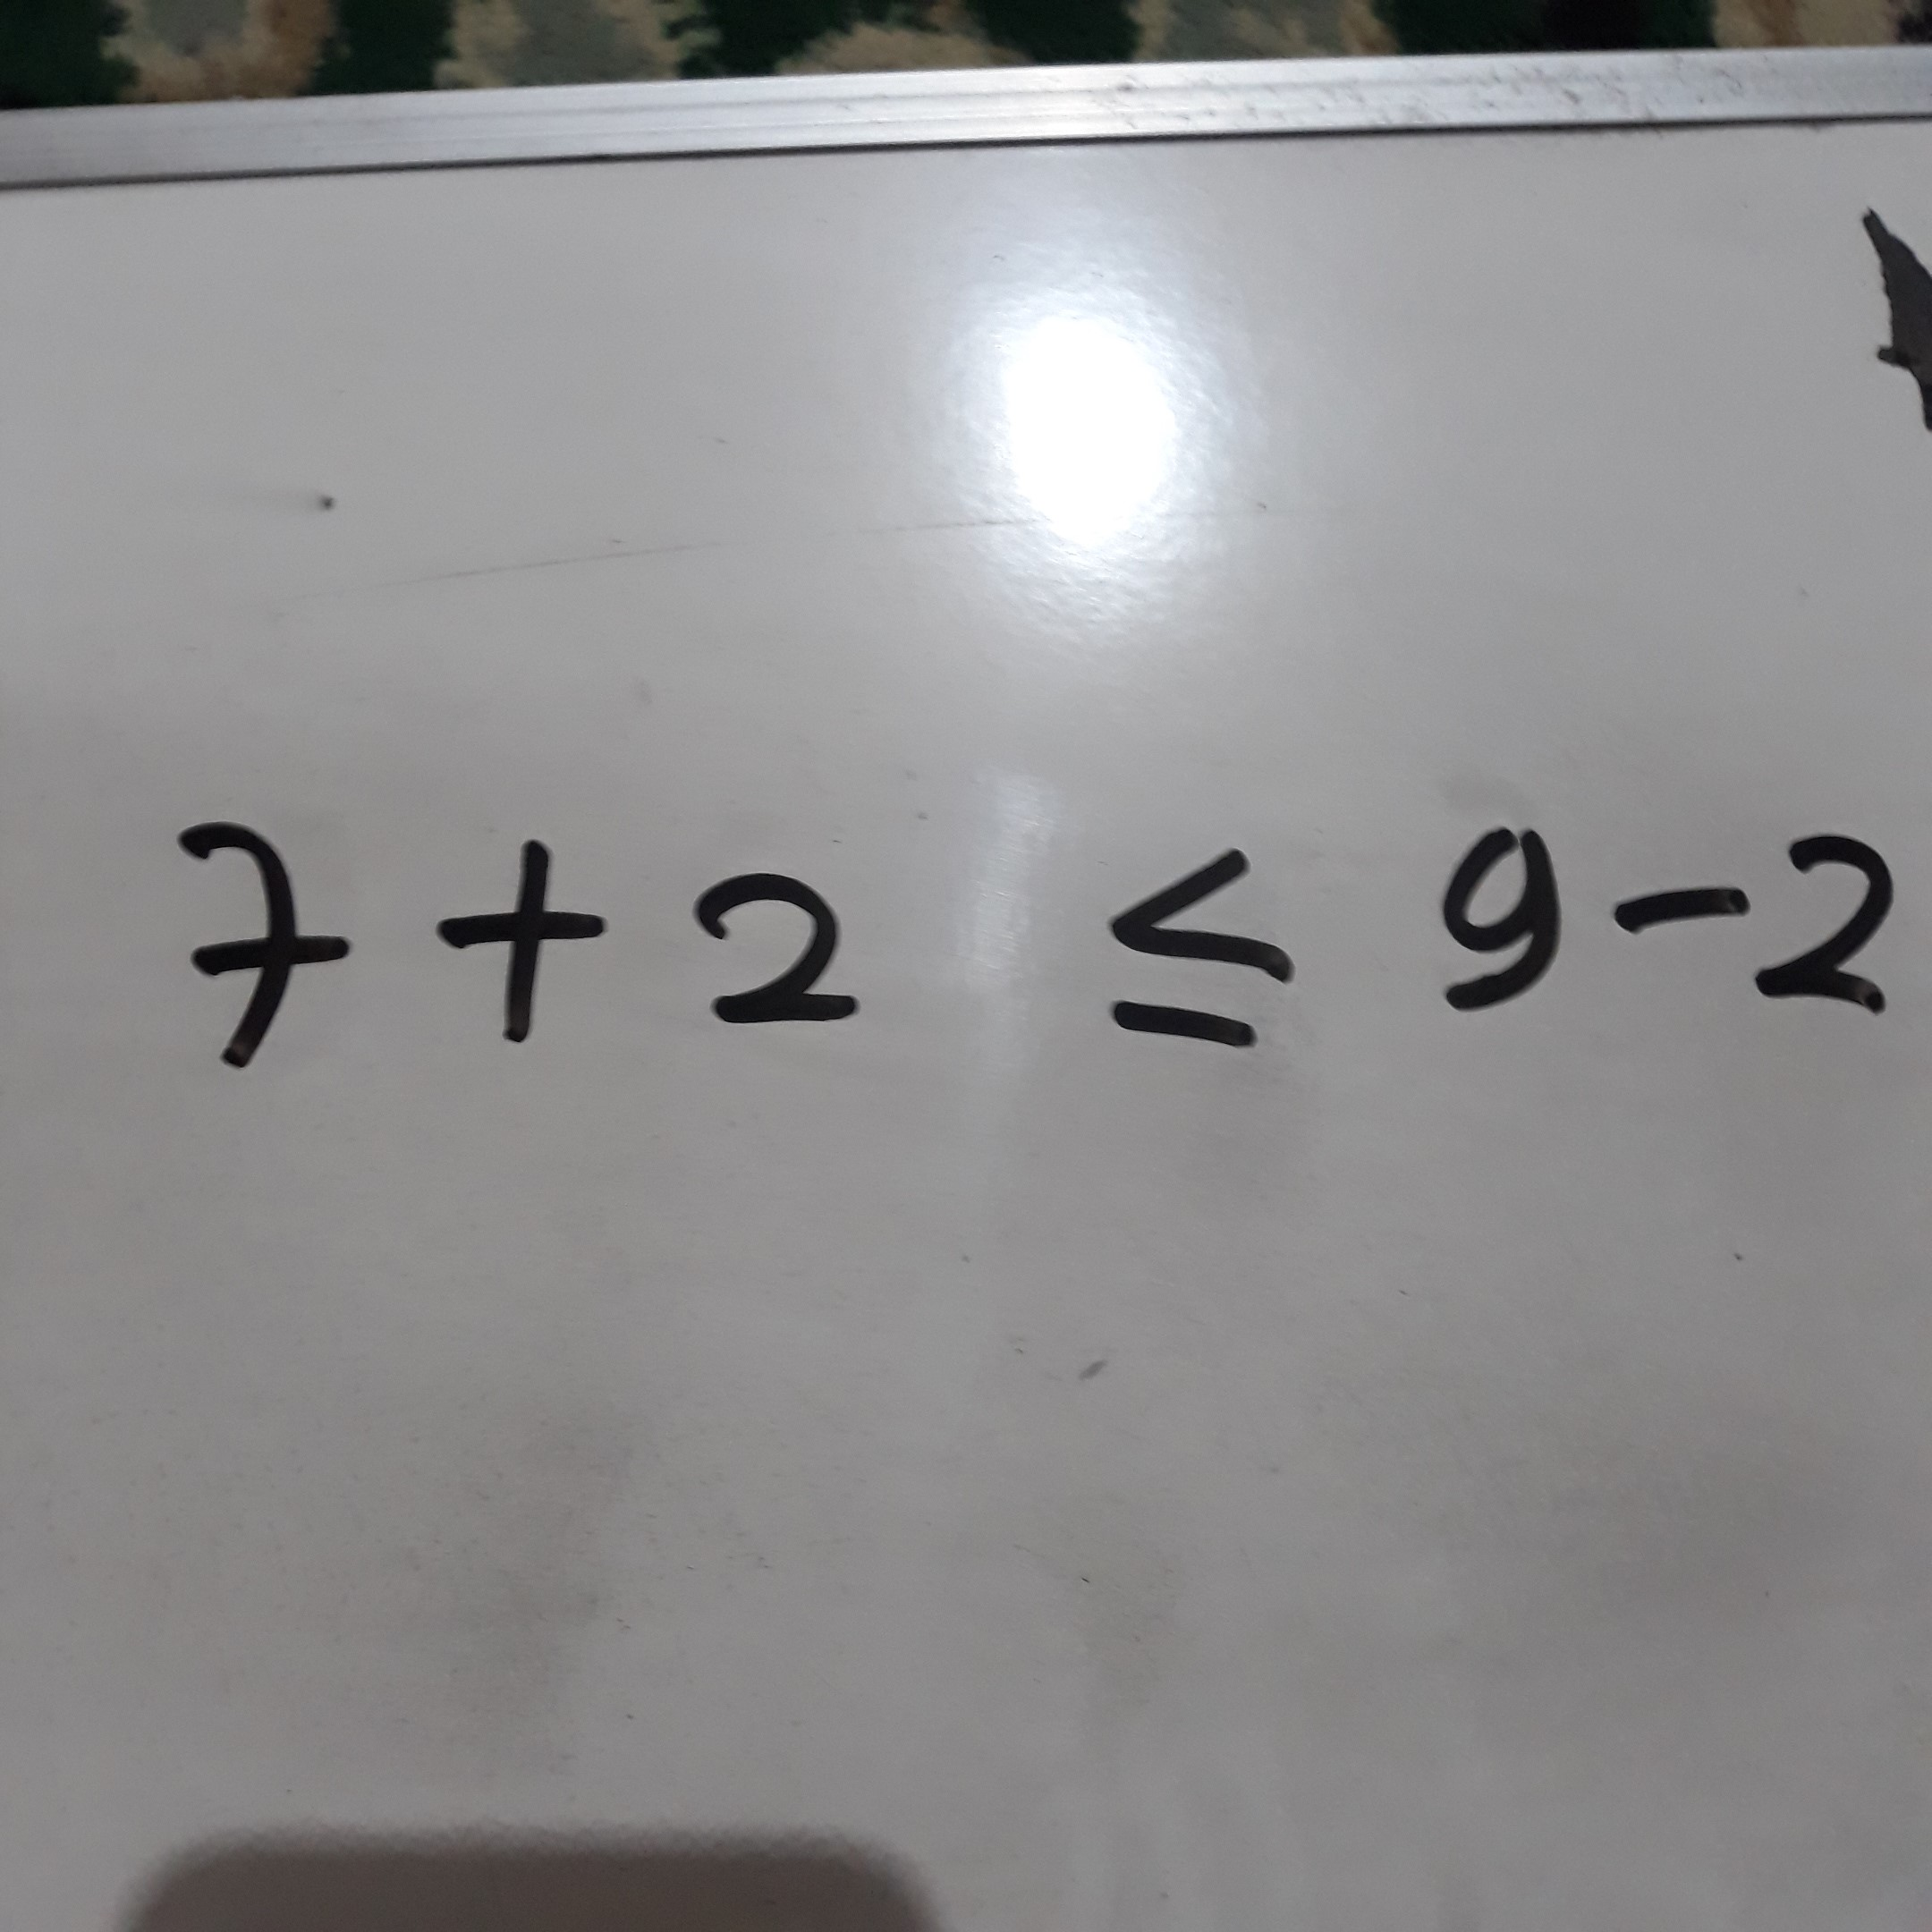lessthan-equal: (1098, 839, 1307, 1061)
min: (1607, 864, 1758, 953)
num2: (681, 861, 874, 1040), (1751, 813, 1909, 1026)
num7: (155, 804, 362, 1095)
num9: (1418, 818, 1580, 1021)
sum: (412, 835, 624, 1057)
